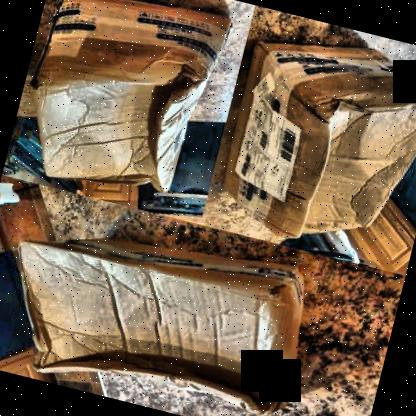defect parcel: (0, 200, 358, 416), (211, 21, 416, 269), (16, 0, 245, 219)
